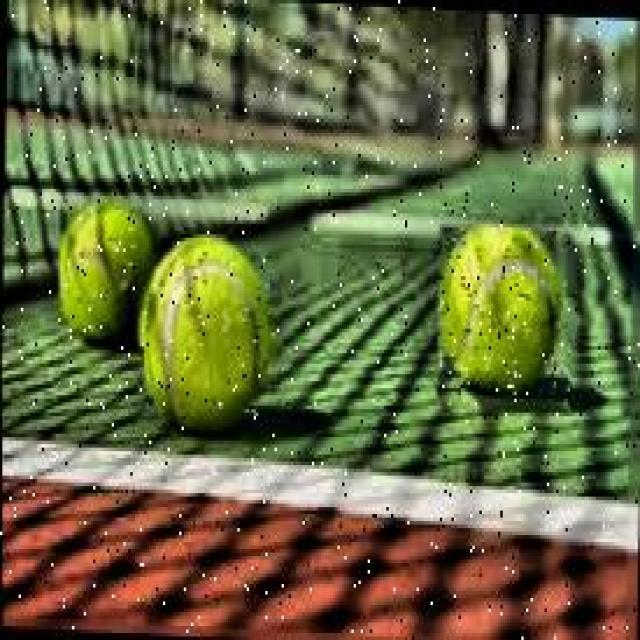tennis-ball: (143, 233, 281, 436), (437, 222, 579, 414), (60, 201, 160, 348)
